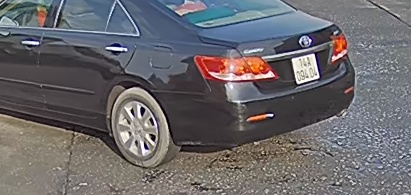vehicle plate: (286, 49, 322, 87)
